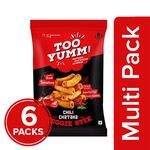plastic: (47, 19, 108, 136)
tooyumm: (48, 39, 92, 62)
wrapper: (30, 19, 105, 98)
